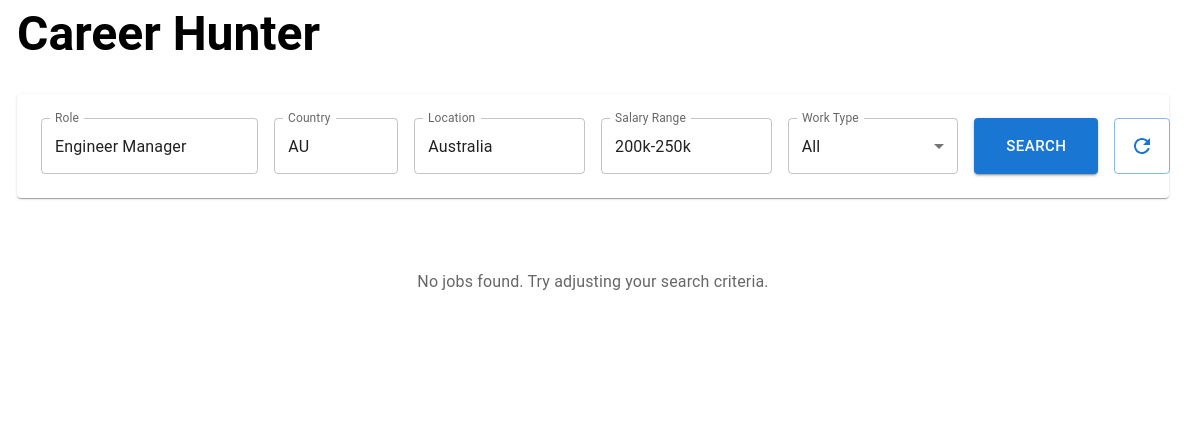
App › shows tabs when jobs are loaded
Click the button "Search" at (1036, 146), box [974,118,1098,174]
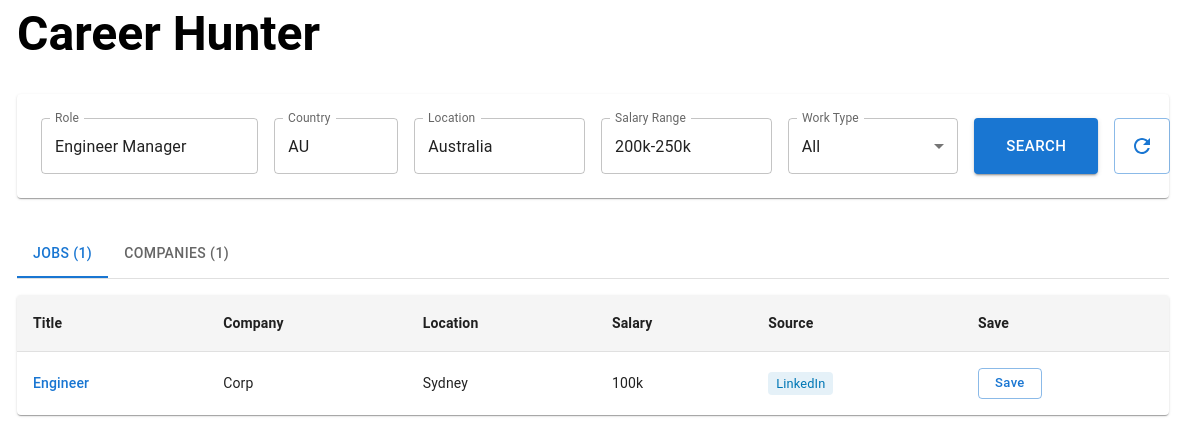
Expected: the tab "Jobs (1)" is shown, [17,230,108,278]
Expected: the tab "Companies (1)" is shown, [108,230,245,278]
